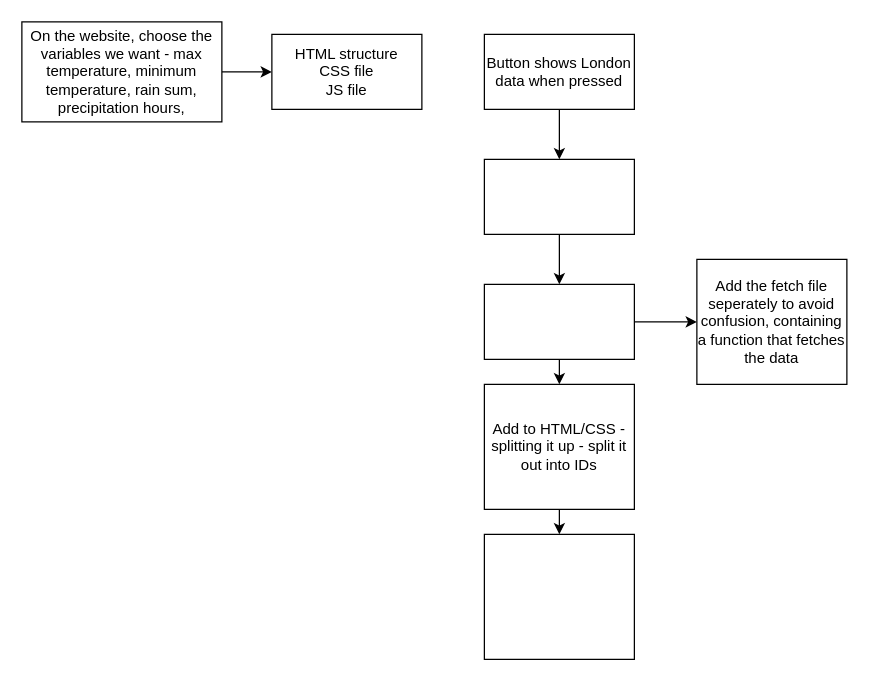
Image size: 869x681. Some labels were removed from this diagram. Here are the shapes that lost their labels. From the top down, the centre of each, then its label:
At (558,196): "Trigger eventListener and run the fetch request".
At (558,321): "Return the fetch request and parse the information".
At (558,596): "Display that information in a readable way in the container".
